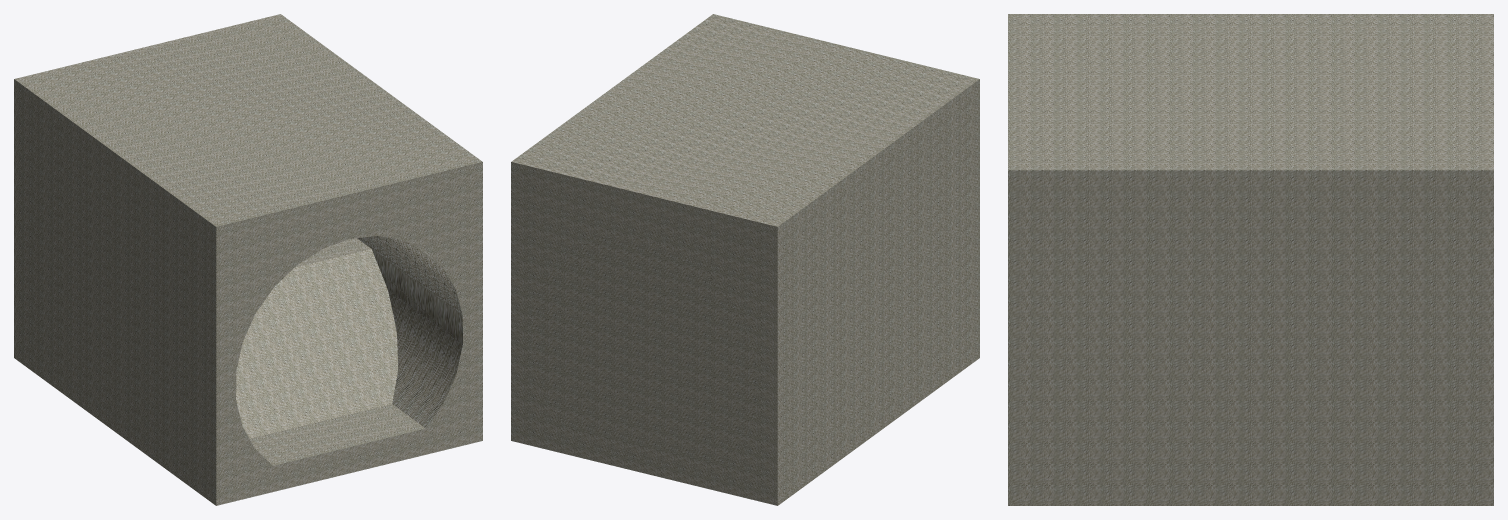
File: ExcavTwoStep2.glb
3 renders of one model, left to right at view 1: azimuth 30°, elevation 25°; view 2: azimuth 150°, elevation 25°; view 3: azimuth 270°, elevation 25°, orthographic. The views are drawn at different scales.
Bounding box in the file's own units: 16 × 16 × 21.
1 material, 1 textured.
